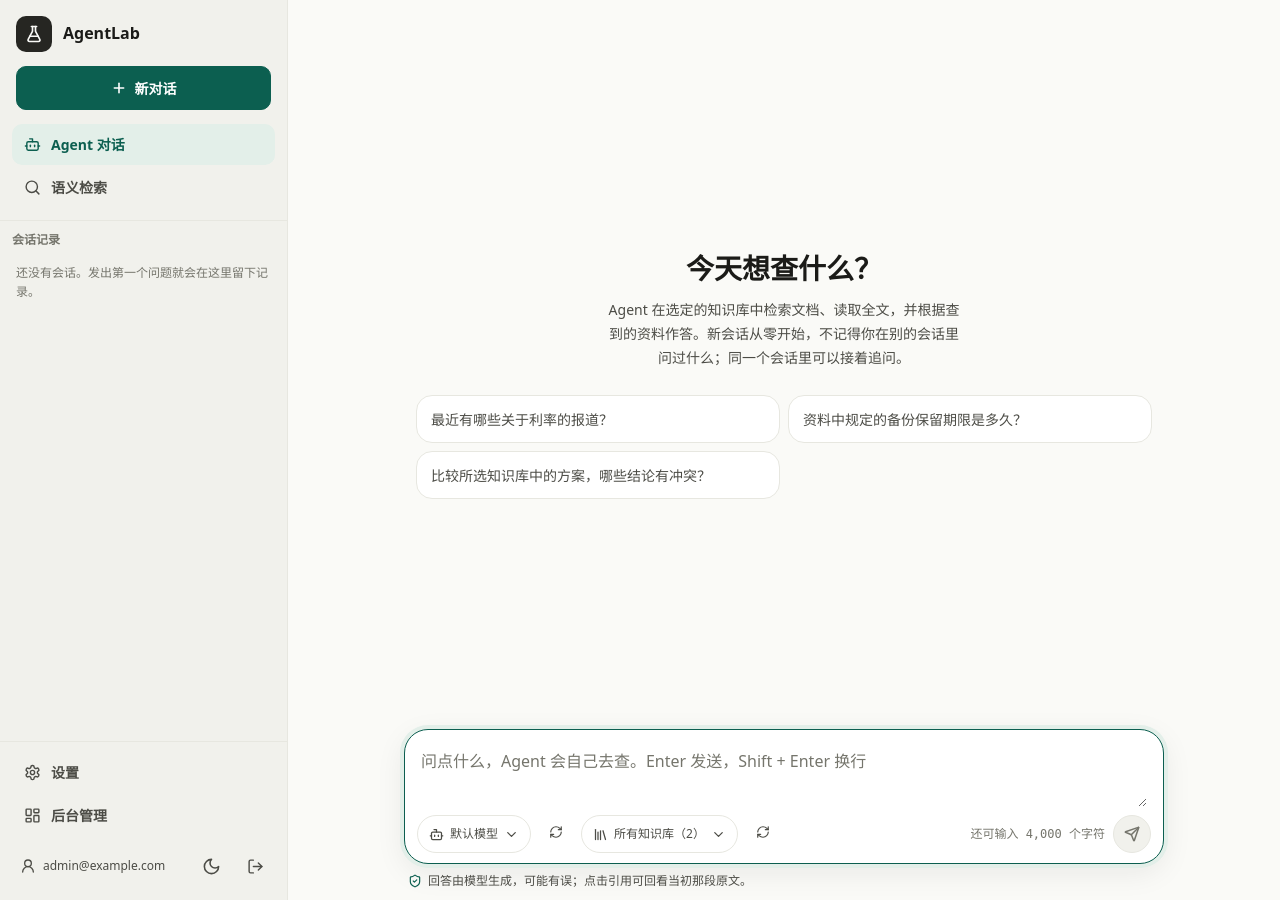
Test: AgentChatPage › 退出失败时留在本页并提示
Click the button named "退出登录". click: [255, 866]
box: [235,846,275,886]
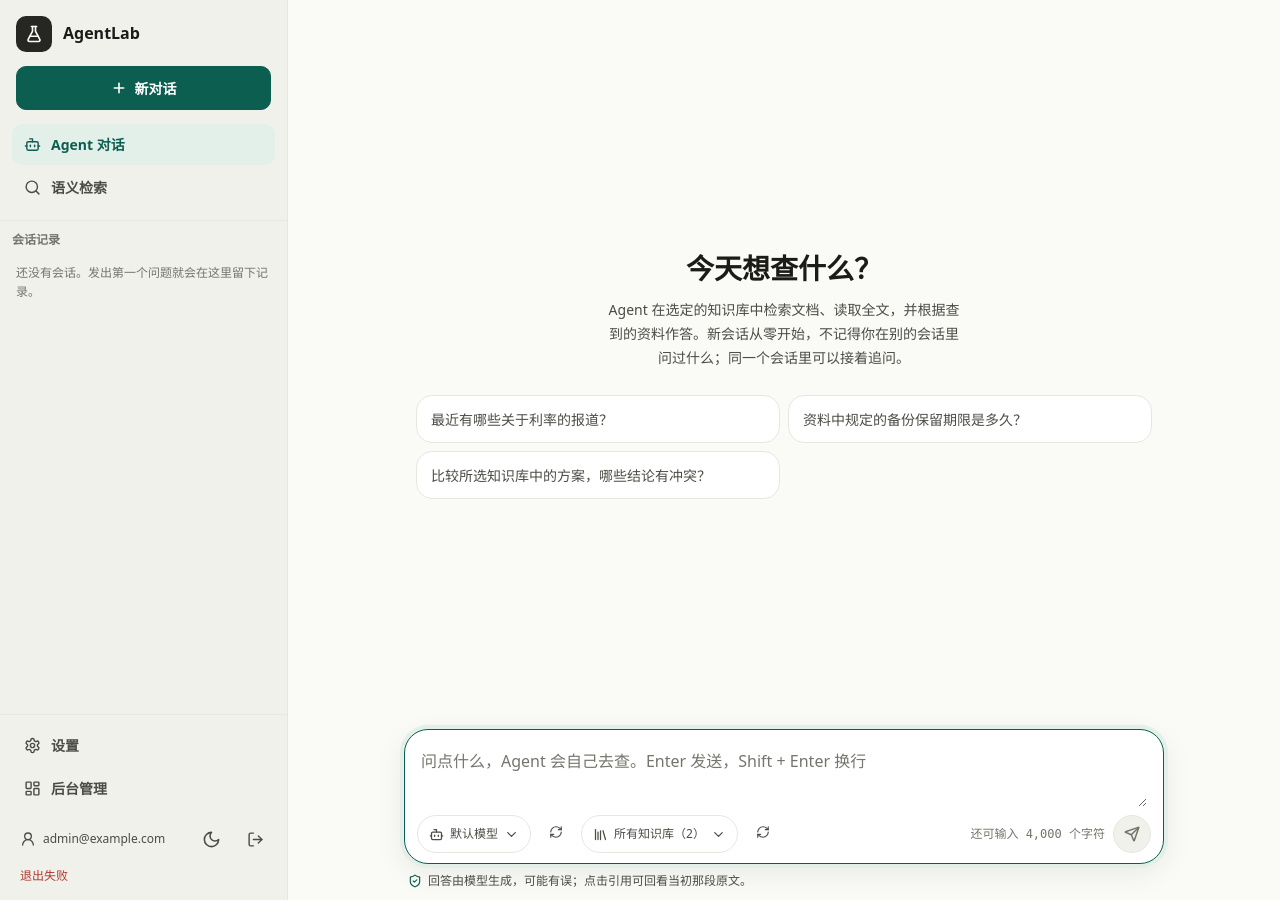
Check: the message with class "logout-error" reads "退出失败", box [20,867,68,884]
